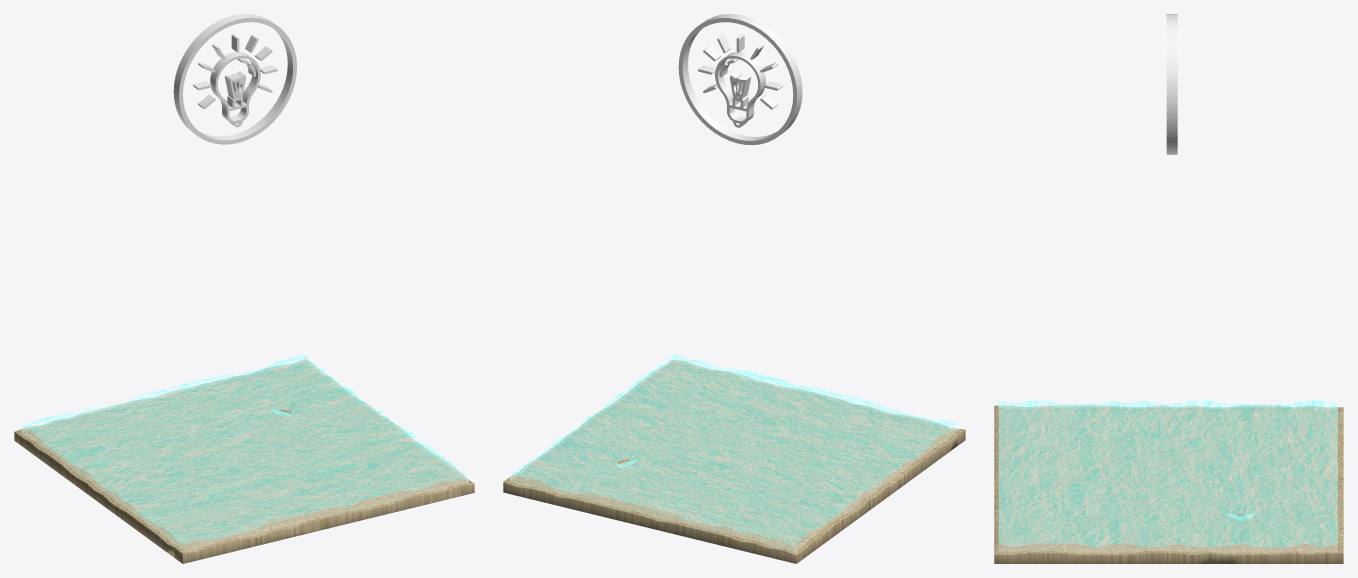
File: water-lower-bulb-trans1.glb
The picture shows the model from 3 angles, left to right: view 1: azimuth 30°, elevation 25°; view 2: azimuth 150°, elevation 25°; view 3: azimuth 270°, elevation 25°; orthographic projection. The views are drawn at different scales.
Visible parts, largest first — view 1: Sand, Plane.002_1, Curve.012, Plane.002_0; view 2: Sand, Plane.002_1, Curve.012, Plane.002_0; view 3: Sand, Plane.002_1, Plane.002_0, Curve.012.
Boxes of the visible parts, x1=… form: Sand: x1=14, y1=359, x2=474, y2=563; Plane.002_1: x1=22, y1=355, x2=468, y2=543; Curve.012: x1=173, y1=14, x2=296, y2=144; Plane.002_0: x1=21, y1=427, x2=468, y2=550; Sand: x1=503, y1=360, x2=965, y2=563; Plane.002_1: x1=510, y1=353, x2=958, y2=546; Curve.012: x1=678, y1=14, x2=802, y2=145; Plane.002_0: x1=510, y1=423, x2=958, y2=551; Sand: x1=994, y1=405, x2=1343, y2=563; Plane.002_1: x1=998, y1=400, x2=1337, y2=547; Plane.002_0: x1=999, y1=475, x2=1337, y2=552; Curve.012: x1=1166, y1=14, x2=1177, y2=154.
Bounding box in the file's own units: 107 × 158 × 107.
Materials: 4 (2 with a texture image).
